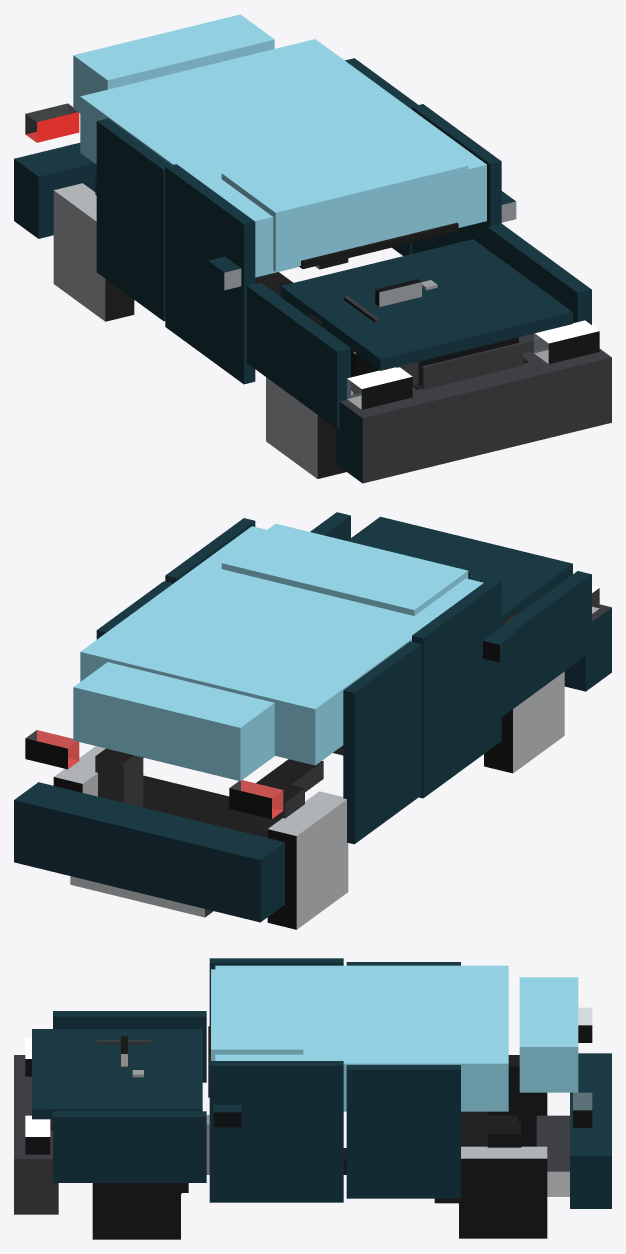
File: car.glb
3 views of the same model, one above another, from view 1: azimuth 30°, elevation 25°; view 2: azimuth 150°, elevation 25°; view 3: azimuth 270°, elevation 25° (orthographic). The views are drawn at different scales.
Parts seen in each view (by area): view 1: mesh__stakla__side__0, mesh__stakla__windshield__0, mesh__branici__front__0, mesh__hauba__main__0, mesh__vrata__fr__0, mesh__vrata__rr__0, mesh__blatobrani__r__0, mesh__stakla__rear__0, mesh__felne-gume__rr__0, mesh__branici__rear__0, mesh__felne-gume__fr__0, mesh__blatobrani__l__0 (+10 smaller); view 2: mesh__stakla__side__0, mesh__branici__rear__0, mesh__stakla__rear__0, mesh__vrata__fr__0, mesh__vrata__rr__0, mesh__stakla__windshield__0, mesh__hauba__main__0, mesh__blatobrani__r__0, mesh__felne-gume__rr__0, mesh__felne-gume__fr__0, mesh__ramena-selen-blokovi__rear-axle__0, mesh__amortizeri-opruge__rl__0 (+11 smaller); view 3: mesh__stakla__side__0, mesh__vrata__fl__0, mesh__vrata__rl__0, mesh__hauba__main__0, mesh__blatobrani__l__0, mesh__felne-gume__rl__0, mesh__stakla__windshield__0, mesh__stakla__rear__0, mesh__branici__rear__0, mesh__felne-gume__fl__0, mesh__branici__front__0, mesh__blatobrani__r__0 (+11 smaller).
Boxes of the visible parts, x1,y1,x2,y2 form: mesh__stakla__side__0: (80, 39, 486, 277); mesh__stakla__windshield__0: (221, 126, 468, 271); mesh__branici__front__0: (336, 347, 611, 483); mesh__hauba__main__0: (280, 239, 572, 370); mesh__vrata__fr__0: (165, 164, 255, 384); mesh__vrata__rr__0: (96, 118, 171, 321); mesh__blatobrani__r__0: (247, 282, 350, 428); mesh__stakla__rear__0: (73, 14, 274, 113); mesh__felne-gume__rr__0: (53, 183, 134, 321); mesh__branici__rear__0: (14, 142, 96, 238); mesh__felne-gume__fr__0: (266, 377, 346, 478); mesh__blatobrani__l__0: (487, 224, 591, 324); mesh__stakla__side__0: (80, 526, 483, 765); mesh__branici__rear__0: (14, 782, 284, 922); mesh__stakla__rear__0: (73, 662, 274, 781); mesh__vrata__fr__0: (412, 578, 501, 798); mesh__vrata__rr__0: (343, 641, 421, 844); mesh__stakla__windshield__0: (221, 523, 468, 615); mesh__hauba__main__0: (347, 516, 572, 625); mesh__blatobrani__r__0: (501, 571, 591, 716); mesh__felne-gume__rr__0: (267, 791, 348, 929); mesh__felne-gume__fr__0: (484, 671, 564, 773); mesh__ramena-selen-blokovi__rear-axle__0: (142, 775, 256, 835); mesh__amortizeri-opruge__rl__0: (95, 748, 143, 807); mesh__stakla__side__0: (215, 965, 508, 1111); mesh__vrata__fl__0: (209, 1061, 343, 1202); mesh__vrata__rl__0: (346, 1065, 460, 1198); mesh__hauba__main__0: (32, 1029, 202, 1119); mesh__blatobrani__l__0: (53, 1111, 206, 1182); mesh__felne-gume__rl__0: (459, 1146, 547, 1238); mesh__stakla__windshield__0: (211, 969, 303, 1060); mesh__stakla__rear__0: (519, 977, 578, 1092); mesh__branici__rear__0: (570, 1053, 611, 1208); mesh__felne-gume__fl__0: (92, 1183, 180, 1239); mesh__branici__front__0: (14, 1055, 58, 1214); mesh__blatobrani__r__0: (53, 1011, 206, 1082).
Size of the model in its own units: 2.06 by 1.41 by 4.28.
